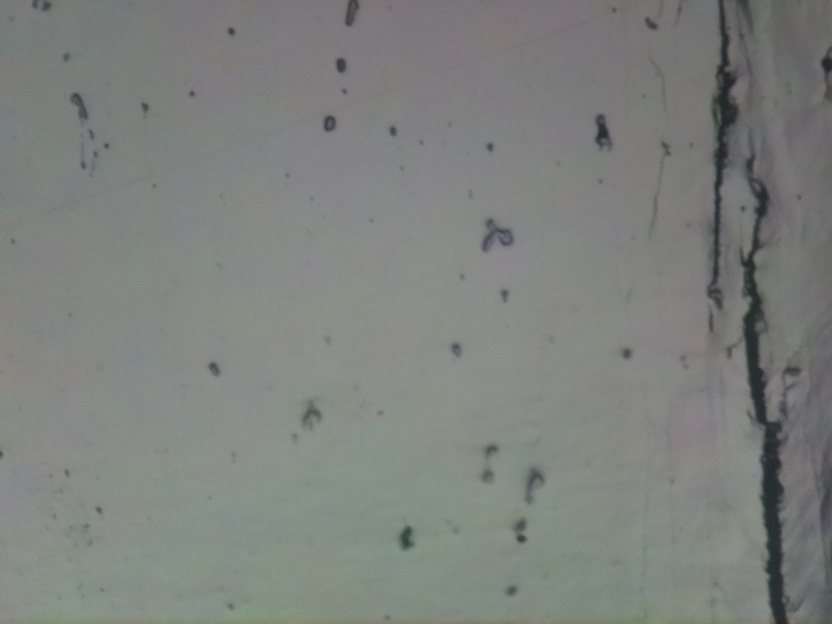crack: (738, 146, 792, 624), (701, 0, 738, 321)
